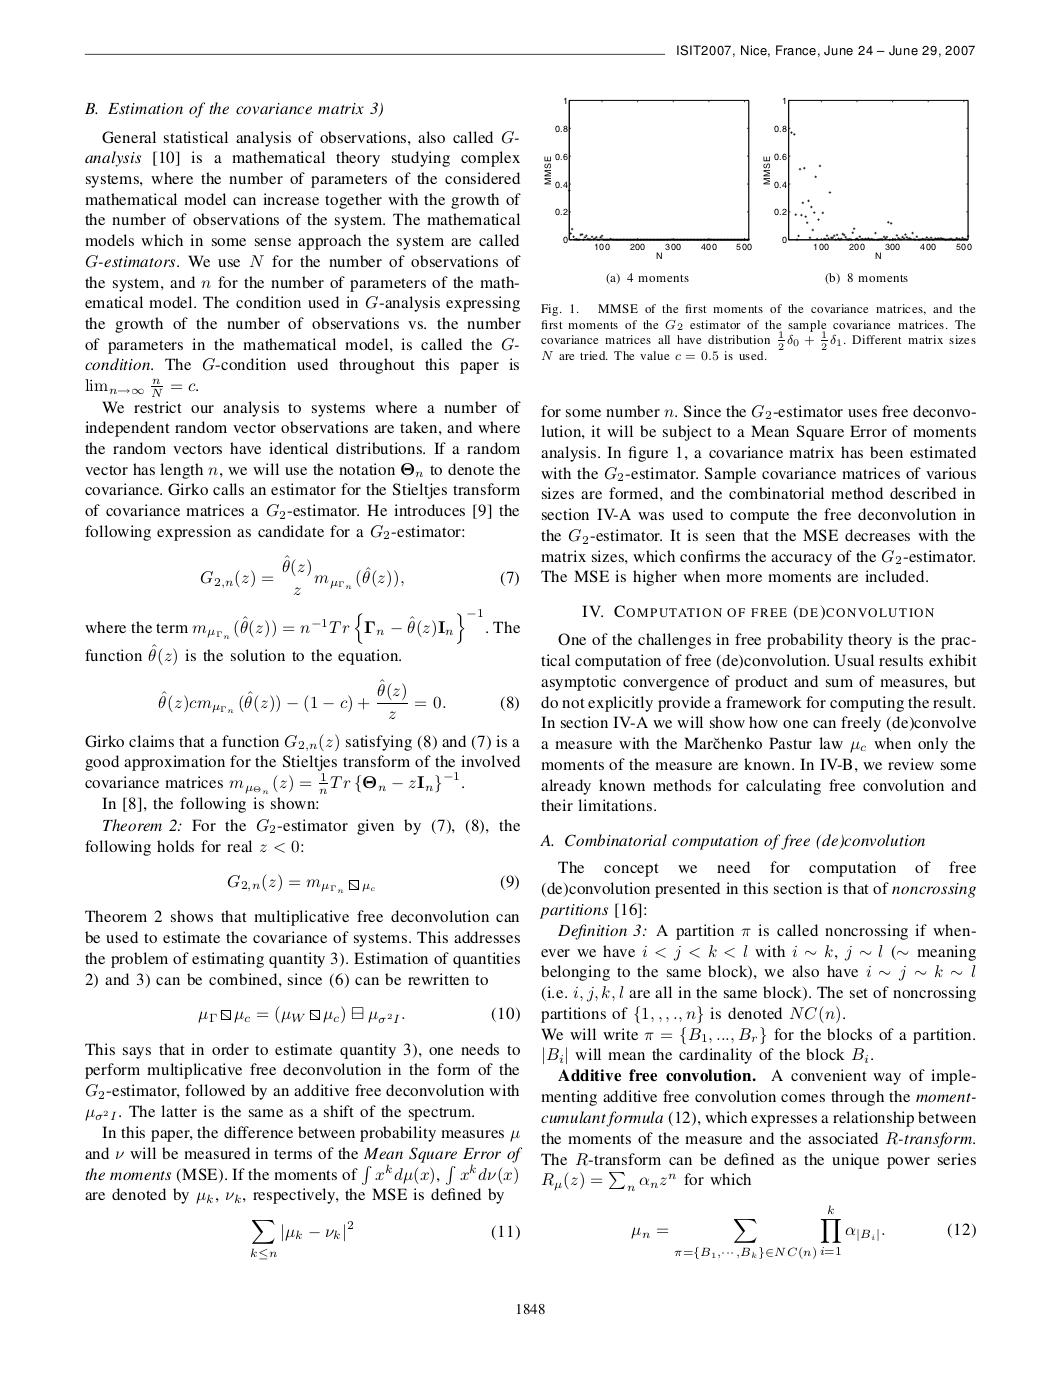figure: (544, 97, 751, 259), (763, 97, 971, 259)
formula: (631, 1206, 975, 1258), (85, 608, 520, 647), (158, 678, 518, 720), (199, 555, 518, 595), (251, 1220, 519, 1259), (198, 1005, 519, 1024), (227, 873, 518, 893), (541, 1172, 751, 1190), (85, 377, 197, 397)
